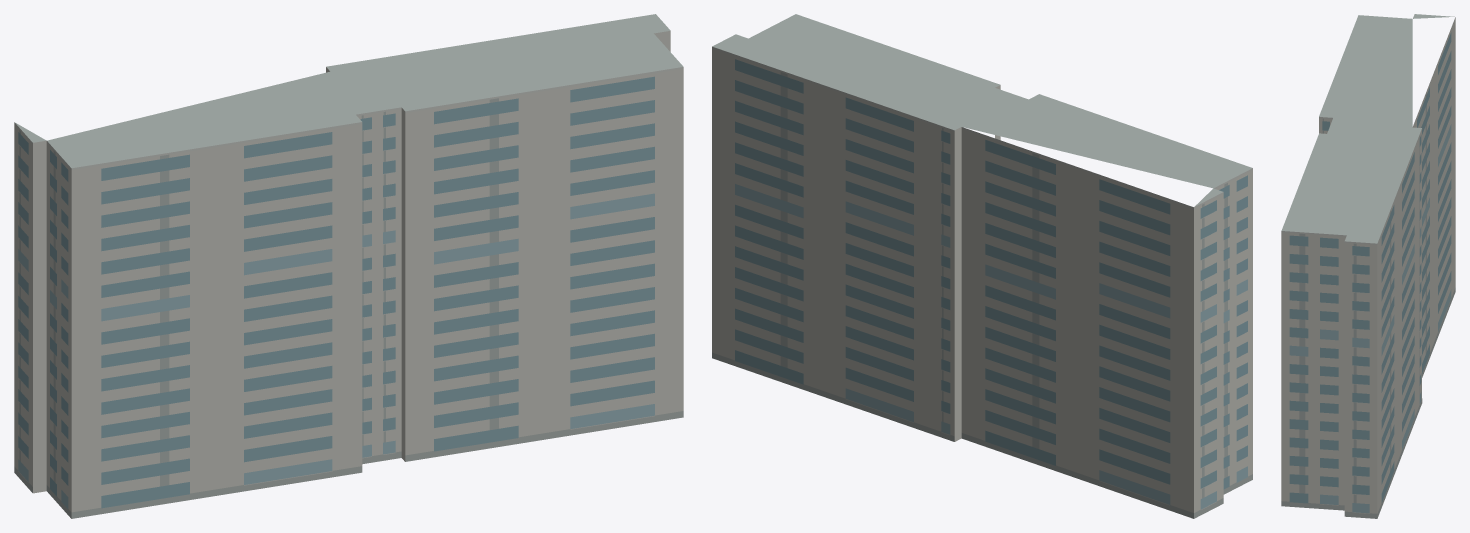
The model's file is residential-58b1a8fb-c91c-4af3-9f58-6524baa784f0.glb.
3 views of the same model, side by side, from view 1: azimuth 30°, elevation 25°; view 2: azimuth 150°, elevation 25°; view 3: azimuth 270°, elevation 25° (orthographic). The views are drawn at different scales.
Parts seen in each view (by area): view 1: residential-58b1a8fb-c91c-4af3-9f58-6524baa784f0.tmp; view 2: residential-58b1a8fb-c91c-4af3-9f58-6524baa784f0.tmp; view 3: residential-58b1a8fb-c91c-4af3-9f58-6524baa784f0.tmp.
Part boxes in pixels (x1=…): residential-58b1a8fb-c91c-4af3-9f58-6524baa784f0.tmp: x1=14, y1=14, x2=683, y2=518; residential-58b1a8fb-c91c-4af3-9f58-6524baa784f0.tmp: x1=712, y1=14, x2=1252, y2=518; residential-58b1a8fb-c91c-4af3-9f58-6524baa784f0.tmp: x1=1281, y1=14, x2=1455, y2=518.
Size of the model in its own units: 81.84 by 45.75 by 26.23.
